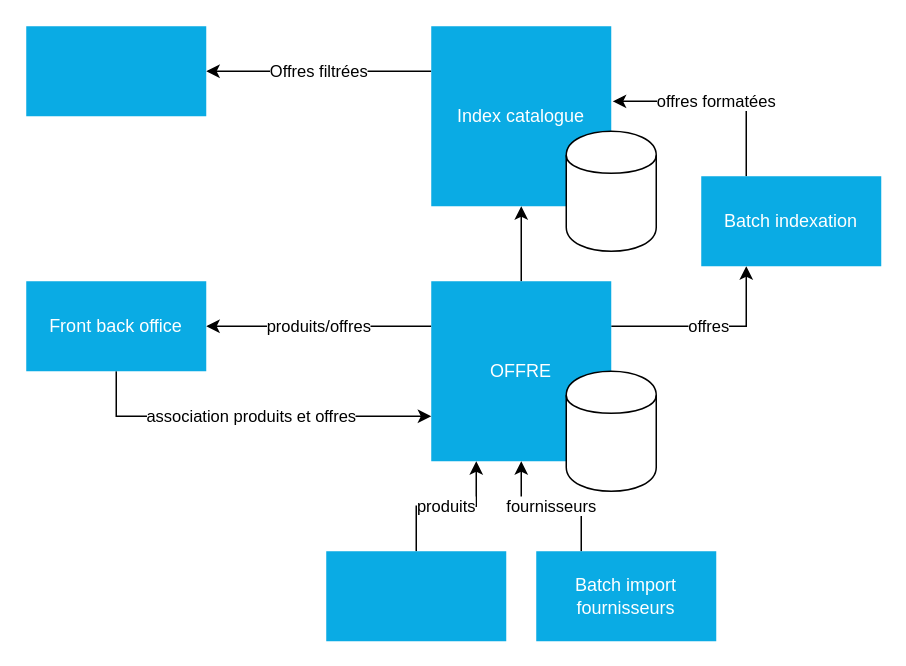
Some shapes in this 906 by 666 pixel diagram are drawn without their labels. Each missing label, with the centre of its shape:
Batch import produits: [416,595]
Front acheteurs: [116,71]
